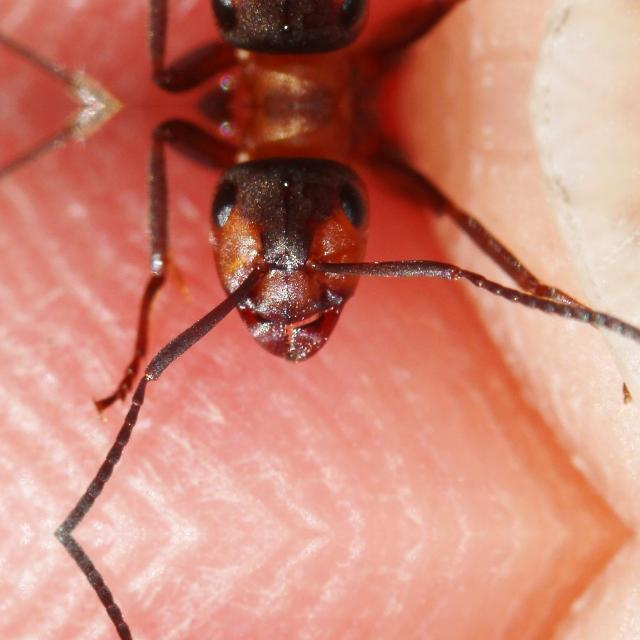Formica: (122, 106, 532, 422), (122, 0, 532, 104)
